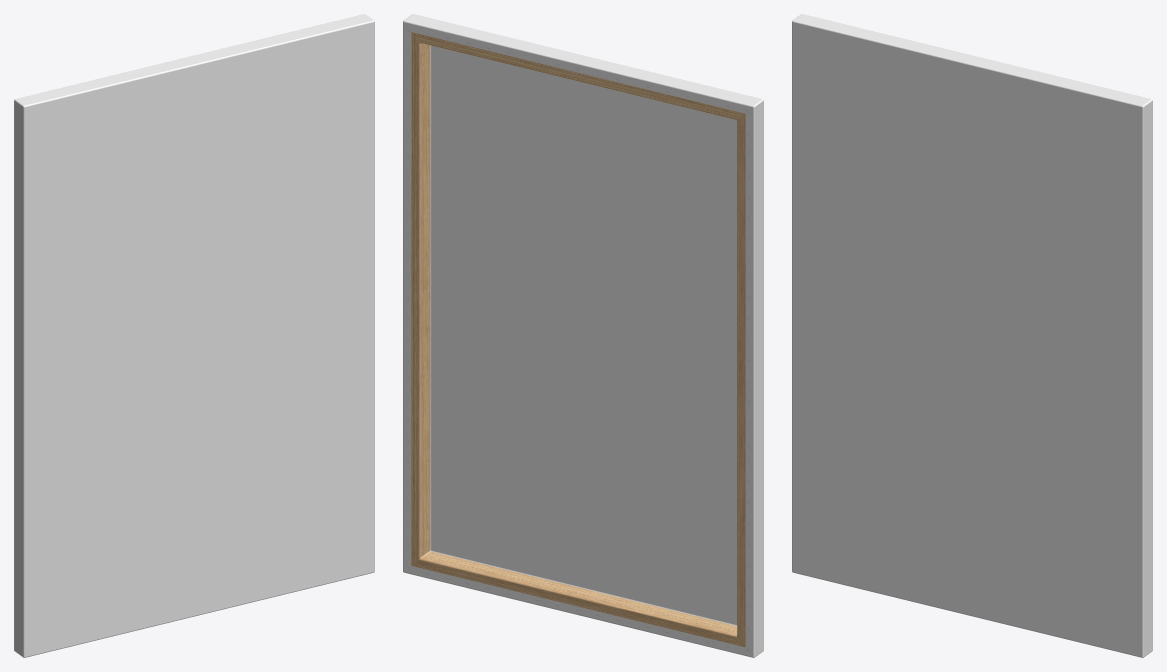
File: canvas-120x80x4cm-portrait-empty.glb
3 renders of one model, left to right at view 1: azimuth 30°, elevation 25°; view 2: azimuth 150°, elevation 25°; view 3: azimuth 330°, elevation 25°, orthographic.
Visible parts, largest first — view 1: Product; view 2: Product, Staples; view 3: Product.
Boxes of the visible parts, box(x1,y1,x2,y2) form: Product: box(14, 14, 374, 657); Product: box(403, 14, 763, 657); Staples: box(407, 29, 749, 650); Product: box(792, 14, 1152, 657).
Bounding box in the file's own units: 0.8 × 1.2 × 0.0405.
Materials: 4 (2 with a texture image).
